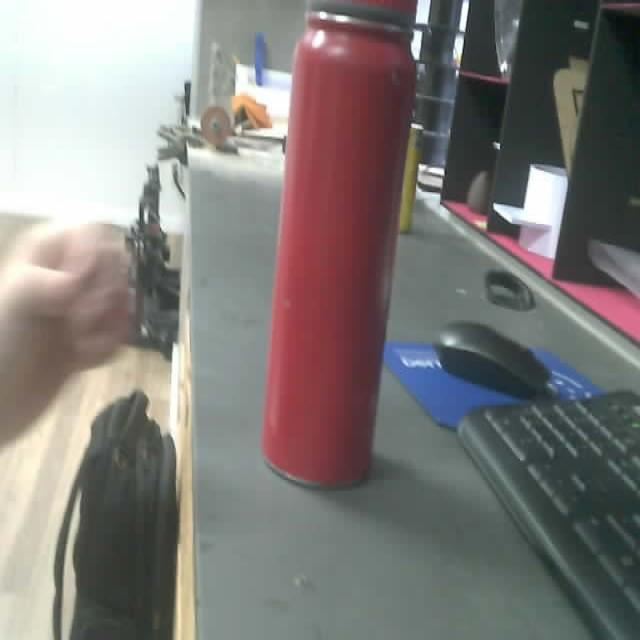water bottle: (262, 2, 425, 490)
